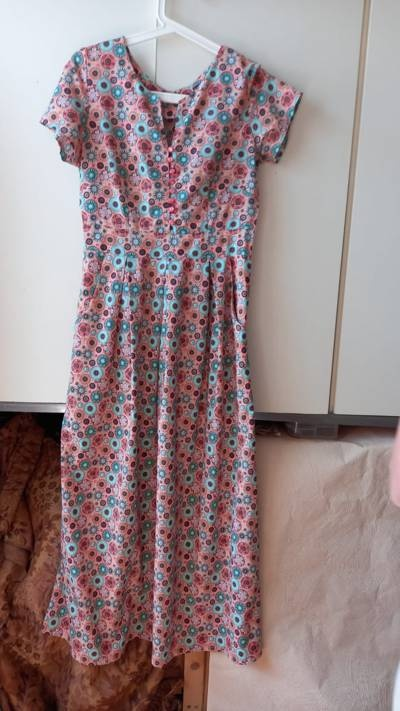Dress: (22, 22, 301, 675)
